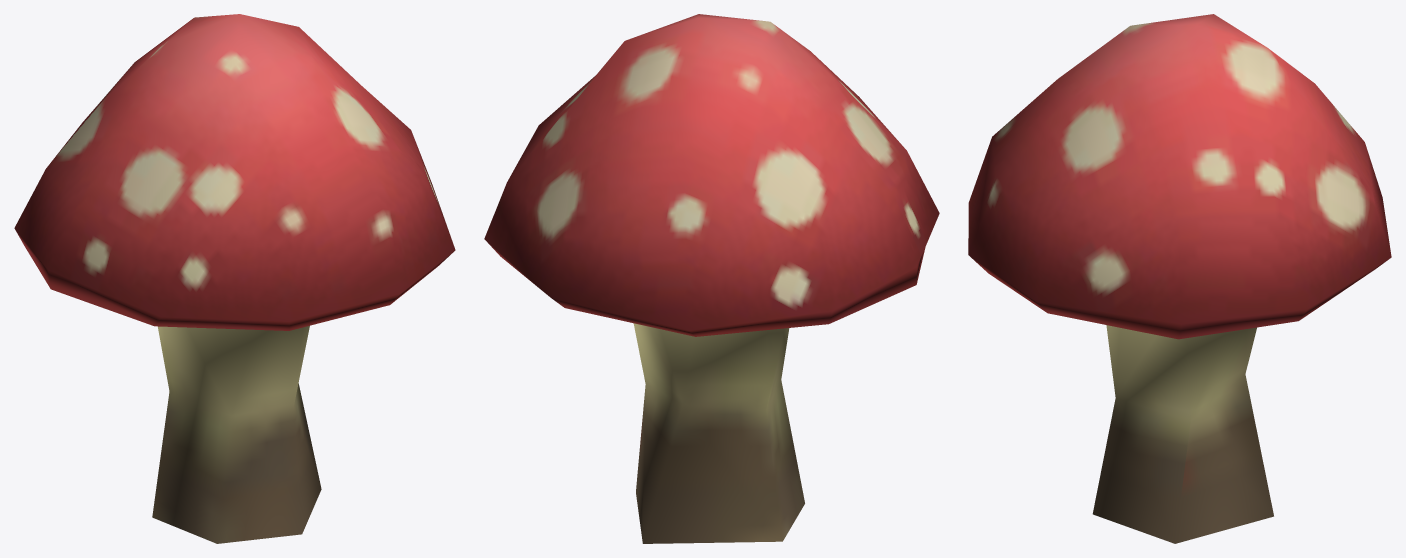
The model's file is mushroom01.fbx.
The picture shows the model from 3 angles, left to right: view 1: azimuth 30°, elevation 25°; view 2: azimuth 150°, elevation 25°; view 3: azimuth 270°, elevation 25°; orthographic projection. The views are drawn at different scales.
Parts seen in each view (by area): view 1: mushroom01; view 2: mushroom01; view 3: mushroom01.
Boxes of the visible parts, x1,y1,x2,y2 form: mushroom01: [14, 14, 455, 543]; mushroom01: [484, 14, 939, 543]; mushroom01: [968, 14, 1391, 543].
Bounding box in the file's own units: 1.26 × 1.51 × 1.2.
1 material, 1 textured.
